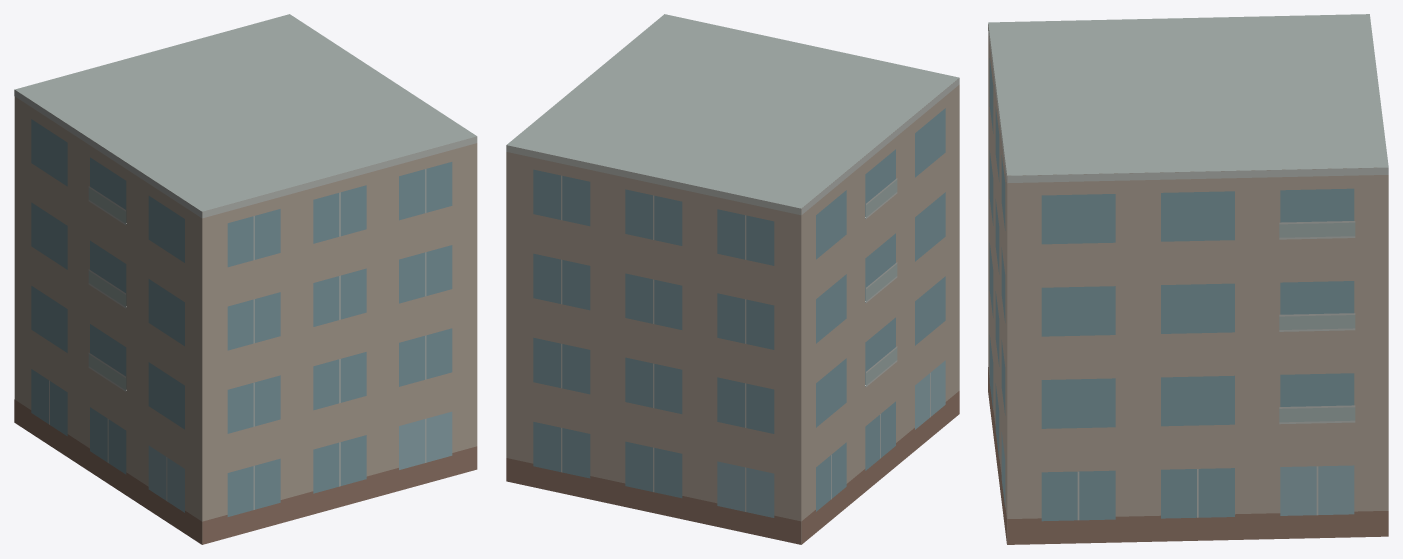
File: residential-1b9a235a-2754-40ea-b7f1-cafbb890417b.glb
3 renders of one model, left to right at view 1: azimuth 30°, elevation 25°; view 2: azimuth 150°, elevation 25°; view 3: azimuth 270°, elevation 25°, orthographic. The views are drawn at different scales.
Visible parts, largest first — view 1: residential-1b9a235a-2754-40ea-b7f1-cafbb890417b.tmp; view 2: residential-1b9a235a-2754-40ea-b7f1-cafbb890417b.tmp; view 3: residential-1b9a235a-2754-40ea-b7f1-cafbb890417b.tmp.
Boxes of the visible parts, x1=… form: residential-1b9a235a-2754-40ea-b7f1-cafbb890417b.tmp: x1=14, y1=14, x2=477, y2=544; residential-1b9a235a-2754-40ea-b7f1-cafbb890417b.tmp: x1=506, y1=14, x2=959, y2=544; residential-1b9a235a-2754-40ea-b7f1-cafbb890417b.tmp: x1=988, y1=14, x2=1388, y2=544.
Size of the model in its own units: 11.48 by 12.2 by 12.01.
